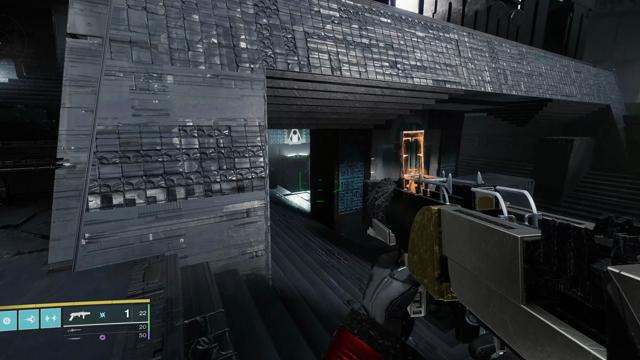grief: (287, 129, 303, 142)
